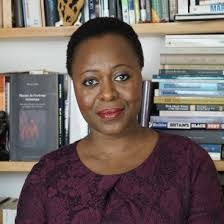black_female: (63, 19, 153, 132)
